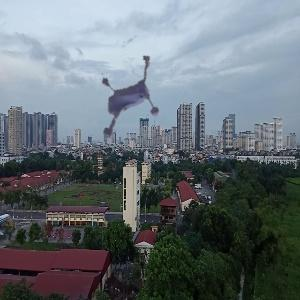drone: (78, 62, 179, 163)
